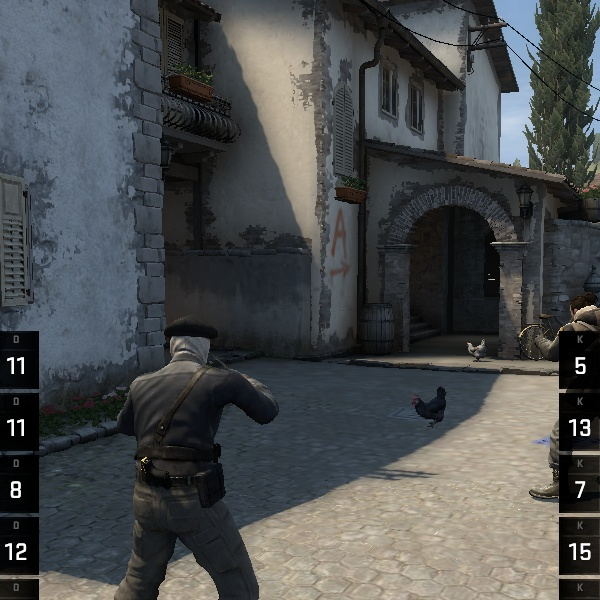ct_body: (0, 17, 350, 600)
